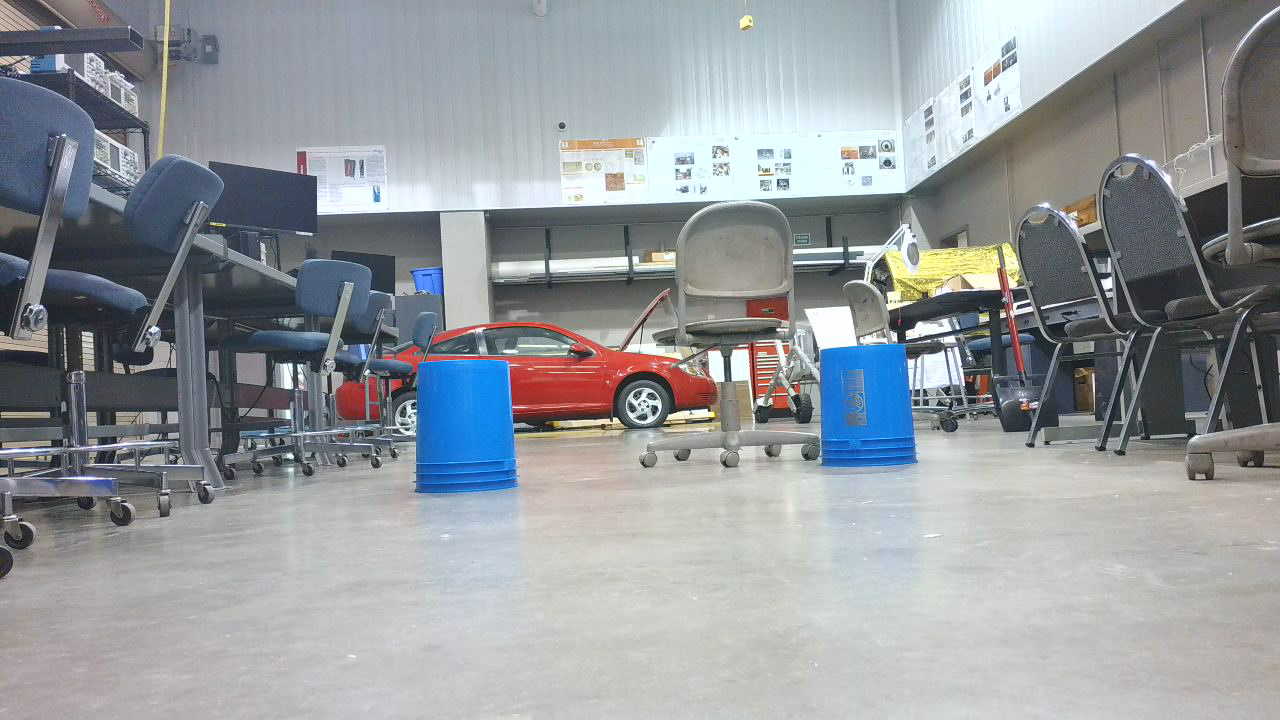blue_bucket: (418, 363, 525, 499), (823, 348, 927, 474)
